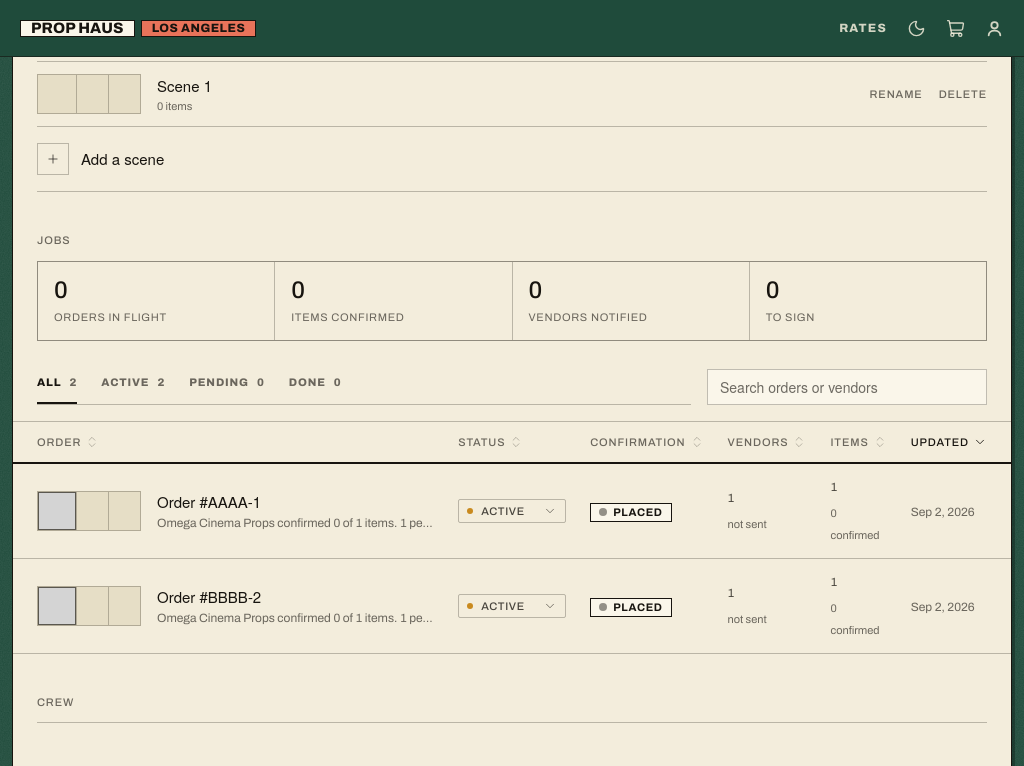
Scenario: ProjectPage › Jobs section › lets the user set a status from the row: the write goes out and the tabs recount
(page scrolled)
Click the tab "Active 2" at (133, 384), box left=101, top=364, right=165, bottom=404
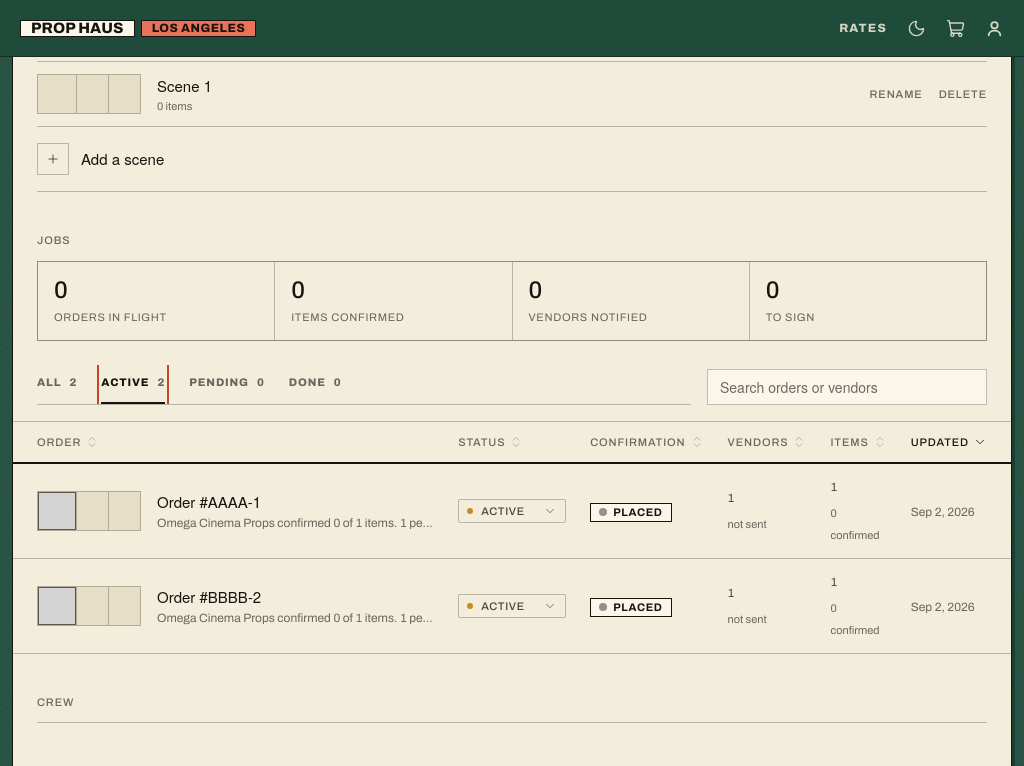
Select "DONE" in the dropdown named "Status for order #AAAA-1" at (512, 511), box left=459, top=500, right=565, bottom=522
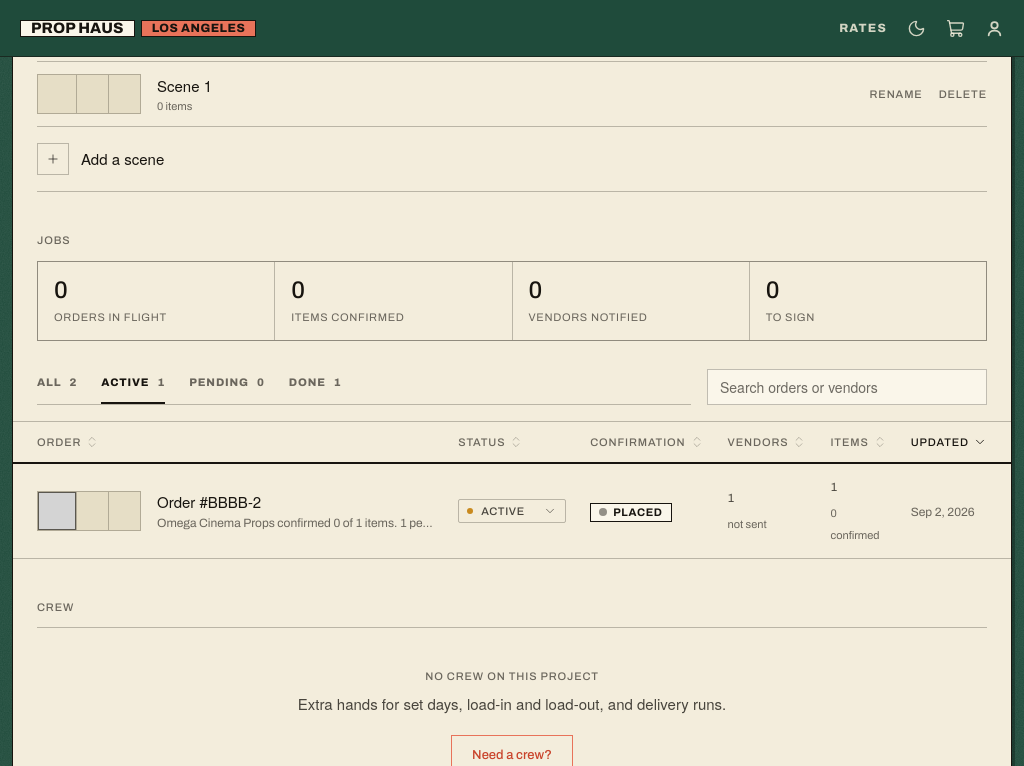
expect the links "Order #" read "Order #BBBB-2", in this order: met, box left=157, top=490, right=261, bottom=512
